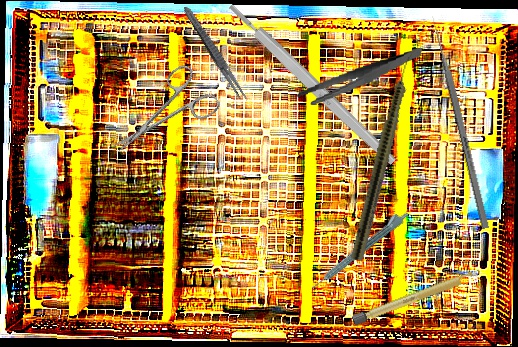Dressing Forceps: (292, 47, 428, 107), (180, 4, 251, 104)
Handpiece: (350, 43, 419, 263), (306, 206, 411, 292)
Iris Scissors: (98, 59, 223, 171)
Pusher: (429, 14, 490, 230)
Scalpel Handle: (225, 0, 399, 168), (351, 268, 480, 327)
